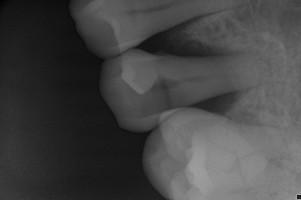Endo-Periodontal Lesion: (152, 17, 231, 58), (188, 90, 243, 116)
